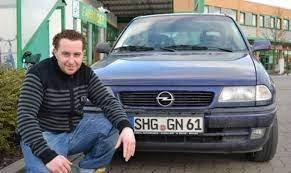license-plates: (134, 117, 205, 134)
